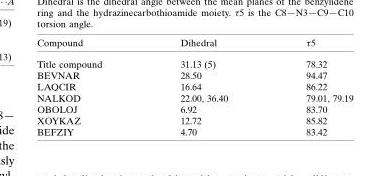table: (36, 37, 352, 136)
table column: (140, 37, 266, 136), (36, 37, 140, 136), (266, 37, 352, 136)
table column header: (36, 37, 352, 53)
table row: (36, 37, 352, 53), (36, 53, 352, 69), (36, 69, 352, 81), (36, 103, 352, 115), (36, 81, 352, 92), (36, 92, 352, 103), (36, 115, 352, 126), (36, 126, 352, 136)
